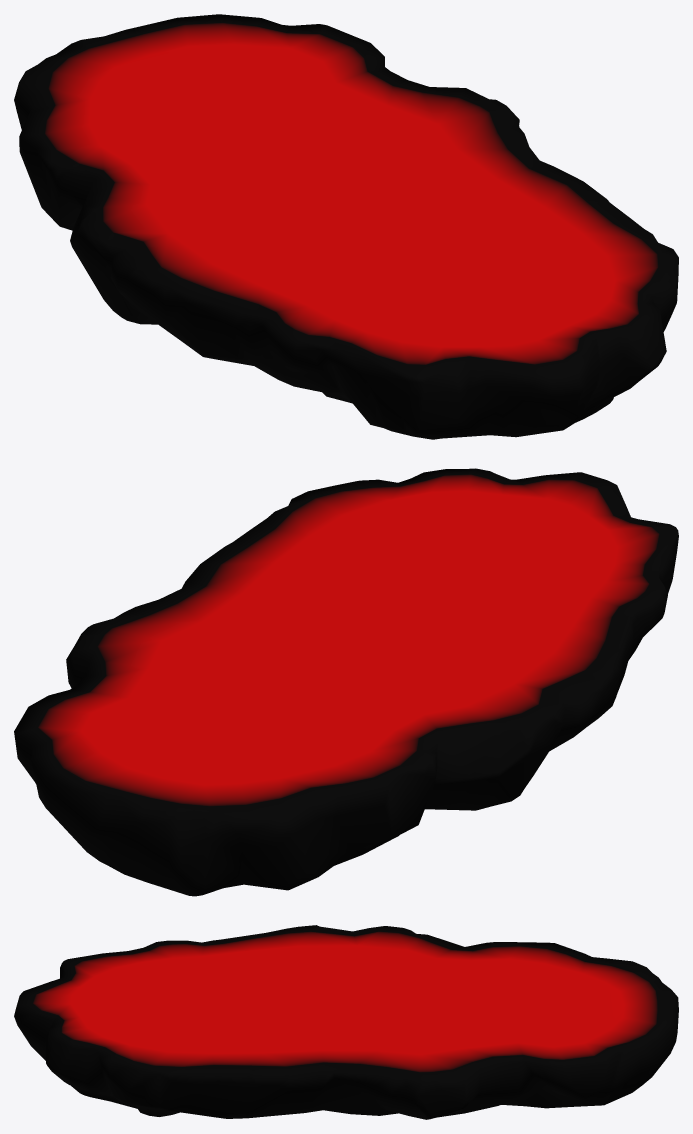
File: Shitou_hill_10.fbx
The picture shows the model from 3 angles, top to bottom: view 1: azimuth 30°, elevation 25°; view 2: azimuth 150°, elevation 25°; view 3: azimuth 270°, elevation 25°; orthographic projection. The views are drawn at different scales.
Visible parts, largest first — view 1: Shitou_hill_10_LOD0; view 2: Shitou_hill_10_LOD0; view 3: Shitou_hill_10_LOD0.
Part boxes in pixels (x1,y1,x2,y2): Shitou_hill_10_LOD0: [14, 14, 678, 439]; Shitou_hill_10_LOD0: [14, 468, 678, 896]; Shitou_hill_10_LOD0: [14, 925, 678, 1119].
Size of the model in its own units: 392 by 86.42 by 692.
